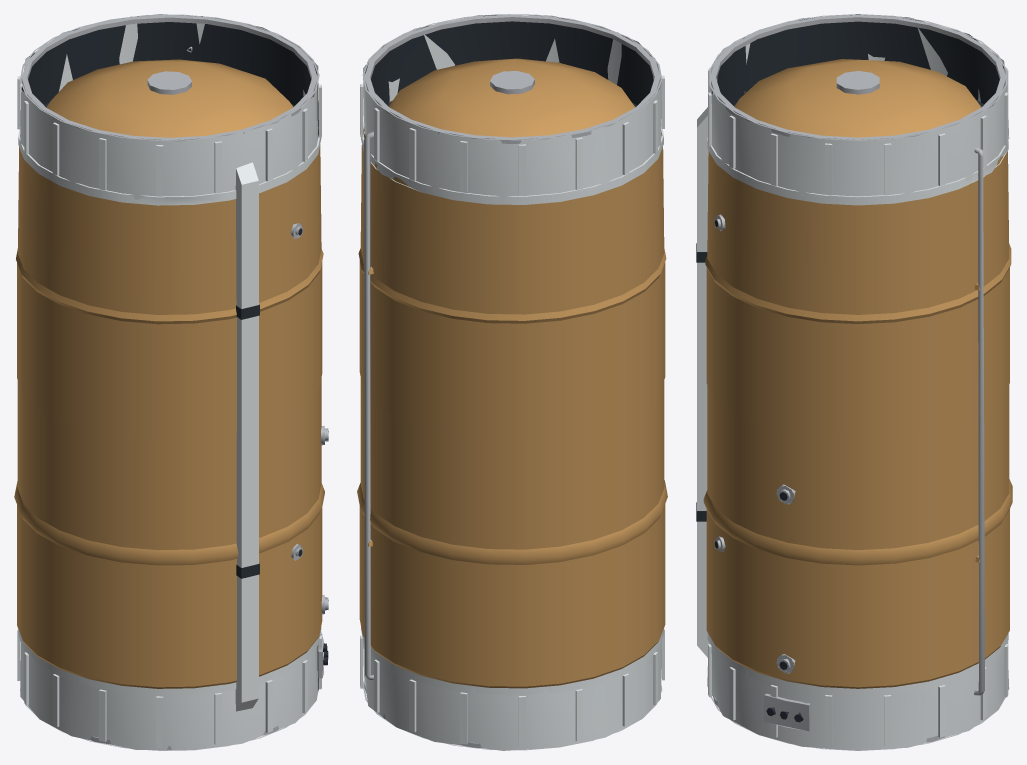
Rendered from tank_s2_s_hydrolox.glb.
3 renders of one model, left to right at view 1: azimuth 30°, elevation 25°; view 2: azimuth 150°, elevation 25°; view 3: azimuth 270°, elevation 25°, orthographic.
Parts seen in each view (by area): view 1: tank_s2_s_hydrolox_mesh; view 2: tank_s2_s_hydrolox_mesh; view 3: tank_s2_s_hydrolox_mesh.
Boxes of the visible parts, x1,y1,x2,y2 form: tank_s2_s_hydrolox_mesh: [14, 14, 328, 750]; tank_s2_s_hydrolox_mesh: [357, 14, 667, 750]; tank_s2_s_hydrolox_mesh: [696, 14, 1012, 750].
Bounding box in the file's own units: 3.84 × 8.3 × 3.9.
